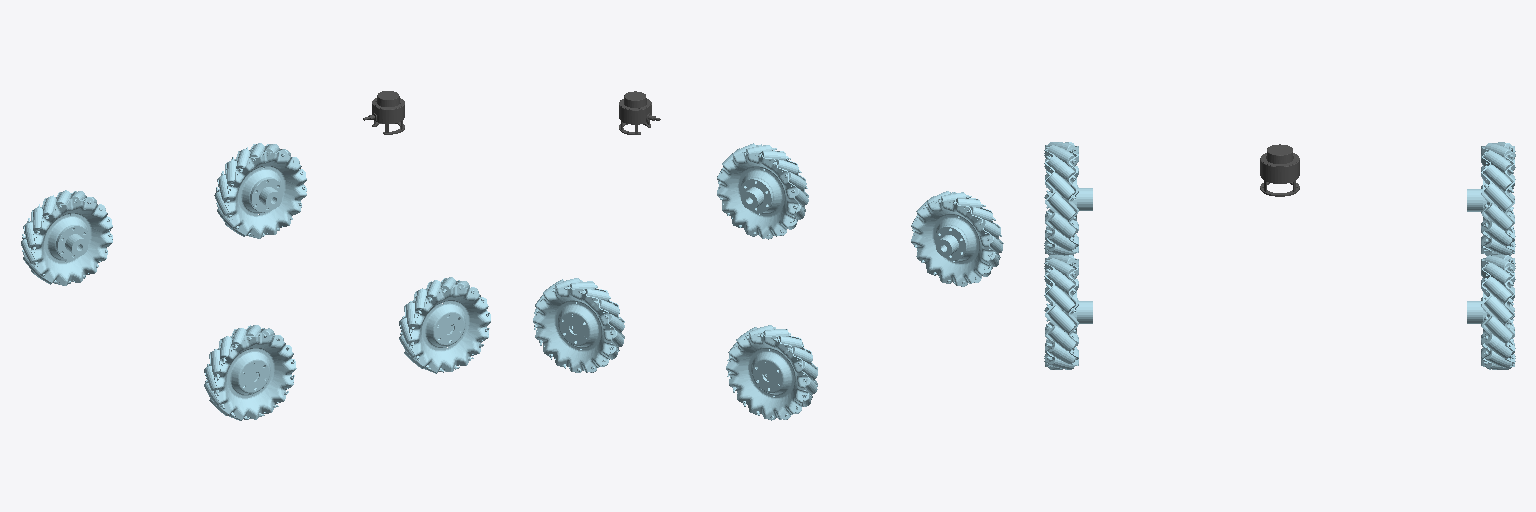
The robot description file, URDF, robot "flagship_mec_dl_robot":
<?xml version="1.0" encoding="utf-8"?>
<!-- This URDF was automatically created by SolidWorks to URDF Exporter! Originally created by [author] ([email redacted]) 
     Commit Version: 1.6.0-4-g7f85cfe  Build Version: 1.6.7995.38578
     For more information, please see http://wiki.ros.org/sw_urdf_exporter -->
<robot
  name="flagship_mec_dl_robot">
  <link
    name="base_link">
    <inertial>
      <origin
        xyz="0.00594974838644888 -0.00278208830712817 0.0722012306894268"
        rpy="0 0 0" />
      <mass
        value="6.62656507613353" />
      <inertia
        ixx="0.0570575550370139"
        ixy="3.97387433819612E-05"
        ixz="-1.84274067462165E-05"
        iyy="0.051379871182729"
        iyz="-2.86896780013599E-06"
        izz="0.100906419214713" />
    </inertial>
    <visual>
      <origin
        xyz="0 0 0"
        rpy="0 0 0" />
      <geometry>
        <mesh
          filename="package://wheeltec_robot_urdf/meshes/flagship_mec_dl_robot_meshes/base_link.STL" />
      </geometry>
      <material
        name="">
        <color
          rgba="0.741176470588235 0.901960784313726 0.956862745098039 1" />
      </material>
    </visual>
    <collision>
      <origin
        xyz="0 0 0"
        rpy="0 0 0" />
      <geometry>
        <mesh
          filename="package://wheeltec_robot_urdf/meshes/flagship_mec_dl_robot_meshes/base_link.STL" />
      </geometry>
    </collision>
  </link>
  <link
    name="lf_wheel_link">
    <inertial>
      <origin
        xyz="-1.70957566257568E-06 -0.0025314415859214 -2.79377279116533E-07"
        rpy="0 0 0" />
      <mass
        value="0.242468136040734" />
      <inertia
        ixx="0.000456509780047165"
        ixy="2.48764554444717E-08"
        ixz="5.85963433566155E-08"
        iyy="0.000868083348561862"
        iyz="2.36373884719179E-07"
        izz="0.000457059209008134" />
    </inertial>
    <visual>
      <origin
        xyz="0 0 0"
        rpy="0 0 0" />
      <geometry>
        <mesh
          filename="package://wheeltec_robot_urdf/meshes/flagship_mec_dl_robot_meshes/lf_wheel_link.STL" />
      </geometry>
      <material
        name="">
        <color
          rgba="0.741176470588235 0.901960784313726 0.956862745098039 1" />
      </material>
    </visual>
    <collision>
      <origin
        xyz="0 0 0"
        rpy="0 0 0" />
      <geometry>
        <mesh
          filename="package://wheeltec_robot_urdf/meshes/flagship_mec_dl_robot_meshes/lf_wheel_link.STL" />
      </geometry>
    </collision>
  </link>
  <joint
    name="lf_wheel_joint"
    type="continuous">
    <origin
      xyz="0.174353547464883 0.287671641802973 0.0364999999999989"
      rpy="0 0 0" />
    <parent
      link="base_link" />
    <child
      link="lf_wheel_link" />
    <axis
      xyz="0 -1 0" />
  </joint>
  <link
    name="lb_wheel_link">
    <inertial>
      <origin
        xyz="-1.28245085789791E-06 -0.00253144158593806 -2.79377288775473E-07"
        rpy="0 0 0" />
      <mass
        value="0.242468136040723" />
      <inertia
        ixx="0.000456509780047214"
        ixy="2.48764554418041E-08"
        ixz="5.85963434144802E-08"
        iyy="0.000868083348561837"
        iyz="2.36373884663941E-07"
        izz="0.000457059209008281" />
    </inertial>
    <visual>
      <origin
        xyz="0 0 0"
        rpy="0 0 0" />
      <geometry>
        <mesh
          filename="package://wheeltec_robot_urdf/meshes/flagship_mec_dl_robot_meshes/lb_wheel_link.STL" />
      </geometry>
      <material
        name="">
        <color
          rgba="0.741176470588235 0.901960784313726 0.956862745098039 1" />
      </material>
    </visual>
    <collision>
      <origin
        xyz="0 0 0"
        rpy="0 0 0" />
      <geometry>
        <mesh
          filename="package://wheeltec_robot_urdf/meshes/flagship_mec_dl_robot_meshes/lb_wheel_link.STL" />
      </geometry>
    </collision>
  </link>
  <joint
    name="lb_wheel_joint"
    type="continuous">
    <origin
      xyz="-0.175638452535117 0.287671641802972 0.0364999999999989"
      rpy="0 0 0" />
    <parent
      link="base_link" />
    <child
      link="lb_wheel_link" />
    <axis
      xyz="0 -1 0" />
  </joint>
  <link
    name="rb_wheel_link">
    <inertial>
      <origin
        xyz="1.28231328827555E-06 0.00253144151010509 -2.7917555672774E-07"
        rpy="0 0 0" />
      <mass
        value="0.242468138567029" />
      <inertia
        ixx="0.000456509782277566"
        ixy="2.48771202902957E-08"
        ixz="-5.85954248573733E-08"
        iyy="0.000868083350535182"
        iyz="-2.36374859176783E-07"
        izz="0.000457059210518107" />
    </inertial>
    <visual>
      <origin
        xyz="0 0 0"
        rpy="0 0 0" />
      <geometry>
        <mesh
          filename="package://wheeltec_robot_urdf/meshes/flagship_mec_dl_robot_meshes/rb_wheel_link.STL" />
      </geometry>
      <material
        name="">
        <color
          rgba="0.741176470588235 0.901960784313726 0.956862745098039 1" />
      </material>
    </visual>
    <collision>
      <origin
        xyz="0 0 0"
        rpy="0 0 0" />
      <geometry>
        <mesh
          filename="package://wheeltec_robot_urdf/meshes/flagship_mec_dl_robot_meshes/rb_wheel_link.STL" />
      </geometry>
    </collision>
  </link>
  <joint
    name="rb_wheel_joint"
    type="continuous">
    <origin
      xyz="-0.177666452535115 -0.287636358197028 0.0365000000000009"
      rpy="0 0 0" />
    <parent
      link="base_link" />
    <child
      link="rb_wheel_link" />
    <axis
      xyz="0 1 0" />
  </joint>
  <link
    name="rf_wheel_link">
    <inertial>
      <origin
        xyz="1.70943808744384E-06 0.00253144151010598 -2.79175556075484E-07"
        rpy="0 0 0" />
      <mass
        value="0.242468138567038" />
      <inertia
        ixx="0.000456509782277578"
        ixy="2.48771202905662E-08"
        ixz="-5.85954248588823E-08"
        iyy="0.000868083350535201"
        iyz="-2.36374859176799E-07"
        izz="0.000457059210518115" />
    </inertial>
    <visual>
      <origin
        xyz="0 0 0"
        rpy="0 0 0" />
      <geometry>
        <mesh
          filename="package://wheeltec_robot_urdf/meshes/flagship_mec_dl_robot_meshes/rf_wheel_link.STL" />
      </geometry>
      <material
        name="">
        <color
          rgba="0.741176470588235 0.901960784313726 0.956862745098039 1" />
      </material>
    </visual>
    <collision>
      <origin
        xyz="0 0 0"
        rpy="0 0 0" />
      <geometry>
        <mesh
          filename="package://wheeltec_robot_urdf/meshes/flagship_mec_dl_robot_meshes/rf_wheel_link.STL" />
      </geometry>
    </collision>
  </link>
  <joint
    name="rf_wheel_joint"
    type="continuous">
    <origin
      xyz="0.174341547464885 -0.287636358197027 0.0365000000000009"
      rpy="0 0 0" />
    <parent
      link="base_link" />
    <child
      link="rf_wheel_link" />
    <axis
      xyz="0 1 0" />
  </joint>
  <link
    name="camera_link">
    <inertial>
      <origin
        xyz="-1.49472333864364E-07 1.57376157022826E-07 1.07509871657974E-07"
        rpy="0 0 0" />
      <mass
        value="0.0559842529202529" />
      <inertia
        ixx="0.000130802200744606"
        ixy="-9.96617453030928E-07"
        ixz="1.6229934269714E-06"
        iyy="1.91236262729695E-05"
        iyz="-4.42334063852427E-08"
        izz="0.000131387473459401" />
    </inertial>
    <visual>
      <origin
        xyz="0 0 0"
        rpy="0 0 0" />
      <geometry>
        <mesh
          filename="package://wheeltec_robot_urdf/meshes/flagship_mec_dl_robot_meshes/camera_link.STL" />
      </geometry>
      <material
        name="">
        <color
          rgba="1 1 1 1" />
      </material>
    </visual>
    <collision>
      <origin
        xyz="0 0 0"
        rpy="0 0 0" />
      <geometry>
        <mesh
          filename="package://wheeltec_robot_urdf/meshes/flagship_mec_dl_robot_meshes/camera_link.STL" />
      </geometry>
    </collision>
  </link>
  <joint
    name="camera_joint"
    type="fixed">
    <origin
      xyz="0.290141547464884 0.000240641802974284 0.212204"
      rpy="0 0 0" />
    <parent
      link="base_link" />
    <child
      link="camera_link" />
    <axis
      xyz="0 0 0" />
  </joint>
  <link
    name="laser_link">
    <inertial>
      <origin
        xyz="-0.00207956288634146 -9.87028646426413E-07 -0.0264468164421749"
        rpy="0 0 0" />
      <mass
        value="0.0042636860602628" />
      <inertia
        ixx="1.45373992961578E-06"
        ixy="2.48436940399223E-14"
        ixz="-8.86181044864521E-08"
        iyy="1.17647720289552E-06"
        iyz="-2.28919823518326E-15"
        izz="2.03836666874872E-06" />
    </inertial>
    <visual>
      <origin
        xyz="0 0 0"
        rpy="0 0 0" />
      <geometry>
        <mesh
          filename="package://wheeltec_robot_urdf/meshes/flagship_mec_dl_robot_meshes/laser.STL" />
      </geometry>
      <material
        name="">
        <color
          rgba="0.376470588235294 0.376470588235294 0.376470588235294 1" />
      </material>
    </visual>
    <collision>
      <origin
        xyz="0 0 0"
        rpy="0 0 0" />
      <geometry>
        <mesh
          filename="package://wheeltec_robot_urdf/meshes/flagship_mec_dl_robot_meshes/laser.STL" />
      </geometry>
    </collision>
  </link>
  <joint
    name="laser_joint"
    type="fixed">
    <origin
      xyz="0.238346547464884 1.66418029743376E-05 0.284664"
      rpy="0 0 -3.14159265358979" />
    <parent
      link="base_link" />
    <child
      link="laser_link" />
    <axis
      xyz="0 0 0" />
  </joint>
  <link
    name="controller_link">
    <inertial>
      <origin
        xyz="-0.0497103400790867 0.0175133935293348 0.00856001460559355"
        rpy="0 0 0" />
      <mass
        value="0.00107921953110441" />
      <inertia
        ixx="1.16330109775188E-08"
        ixy="-3.94092668869787E-09"
        ixz="3.69212784612797E-10"
        iyy="2.26830020206362E-07"
        iyz="5.23015130069641E-10"
        izz="2.25657042461949E-07" />
    </inertial>
    <visual>
      <origin
        xyz="0 0 0"
        rpy="0 0 0" />
      <geometry>
        <mesh
          filename="package://wheeltec_robot_urdf/meshes/flagship_mec_dl_robot_meshes/controller_link.STL" />
      </geometry>
      <material
        name="">
        <color
          rgba="0.741176470588235 0.901960784313726 0.956862745098039 1" />
      </material>
    </visual>
    <collision>
      <origin
        xyz="0 0 0"
        rpy="0 0 0" />
      <geometry>
        <mesh
          filename="package://wheeltec_robot_urdf/meshes/flagship_mec_dl_robot_meshes/controller_link.STL" />
      </geometry>
    </collision>
  </link>
  <joint
    name="controller_joint"
    type="fixed">
    <origin
      xyz="0.101379911991688 0.0620176418028517 0.00150000000000053"
      rpy="0 0 0" />
    <parent
      link="base_link" />
    <child
      link="controller_link" />
    <axis
      xyz="0 0 0" />
  </joint>
</robot>

--- Facts derived from the render (not from the file) ---
3 views of the same robot in one strip: view 1: azimuth 30°, elevation 25°; view 2: azimuth 150°, elevation 25°; view 3: azimuth 270°, elevation 25° (orthographic).
Robot: flagship_mec_dl_robot — 8 links, 7 joints (4 continuous, 3 fixed); root link base_link; default pose: all joints at 0.
Links seen in each view (by area): view 1: rf_wheel_link, lf_wheel_link, lb_wheel_link, rb_wheel_link, laser_link; view 2: lf_wheel_link, rf_wheel_link, lb_wheel_link, rb_wheel_link, laser_link; view 3: lf_wheel_link, rf_wheel_link, lb_wheel_link, rb_wheel_link, laser_link.
Boxes of the visible links, x1,y1,x2,y2 form: rf_wheel_link: (399, 277, 490, 373); lf_wheel_link: (214, 143, 306, 238); lb_wheel_link: (21, 190, 112, 285); rb_wheel_link: (204, 325, 296, 420); laser_link: (363, 91, 404, 134); lf_wheel_link: (533, 278, 624, 372); rf_wheel_link: (717, 143, 808, 239); lb_wheel_link: (726, 325, 817, 420); rb_wheel_link: (911, 191, 1003, 286); laser_link: (619, 91, 660, 134); lf_wheel_link: (1467, 255, 1515, 369); rf_wheel_link: (1044, 255, 1092, 369); lb_wheel_link: (1467, 142, 1515, 255); rb_wheel_link: (1044, 142, 1092, 255); laser_link: (1260, 144, 1299, 196).
Size in the robot's own frame: 0.5181 by 0.6203 by 0.3421 metres.
Meshes: 8 distinct files referenced, 5 mesh visuals loaded (5 binary STL); not drawn: 3 (reference not matched to a file when rendering).